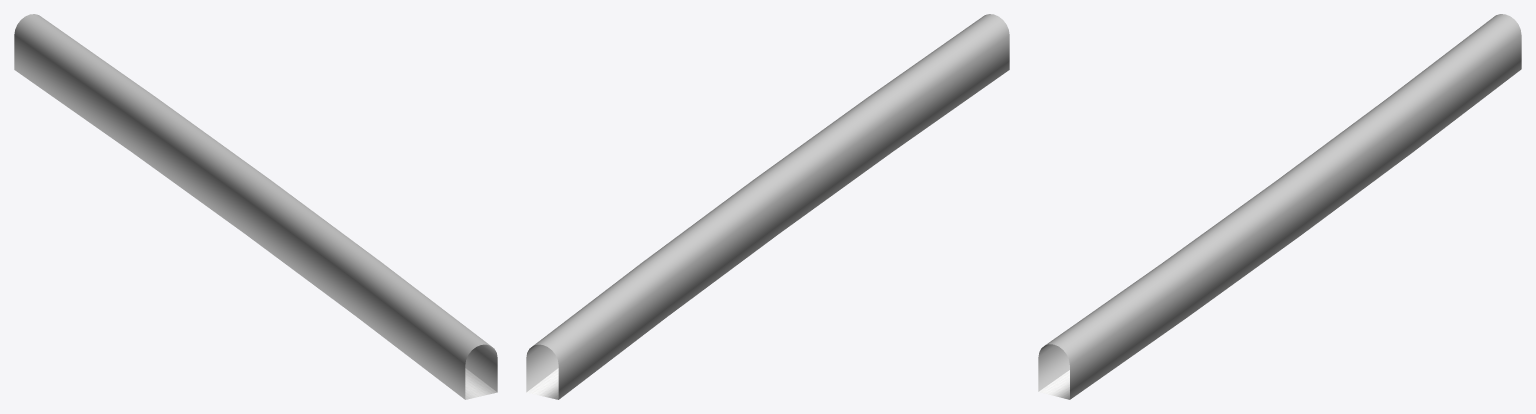
The model's file is S_MainCorridor.fbx.
3 views of the same model, side by side, from view 1: azimuth 30°, elevation 25°; view 2: azimuth 150°, elevation 25°; view 3: azimuth 330°, elevation 25° (orthographic).
Visible parts, largest first — view 1: MainCorridor; view 2: MainCorridor; view 3: MainCorridor.
Part boxes in pixels (x1=…): MainCorridor: x1=14, y1=14, x2=497, y2=399; MainCorridor: x1=526, y1=14, x2=1009, y2=399; MainCorridor: x1=1038, y1=14, x2=1521, y2=399.
Size of the model in its own units: 4.6 by 6.16 by 98.26.
